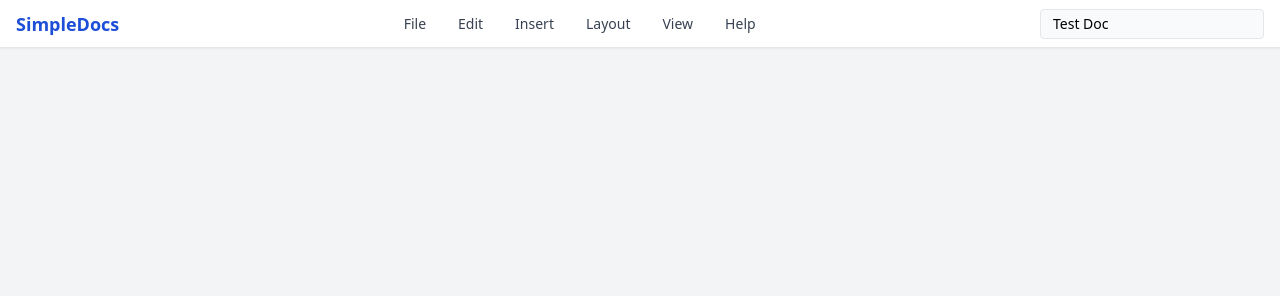
Test case: Navbar — menu close behavior › Layout menu › closes after clicking an alignment button
The width and height of the screenshot is (1280, 296).
Click the button "Layout" at x=608, y=24, box [578,10,638,38]
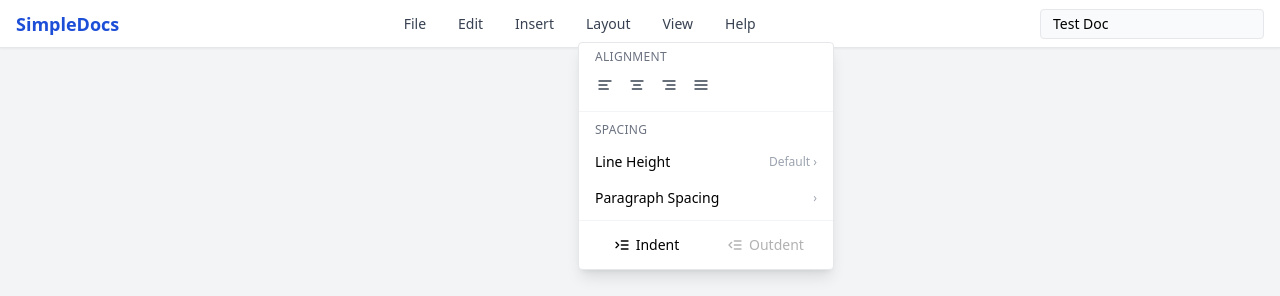
Click the button titled "Align Left" at x=605, y=84, box [591,70,619,98]
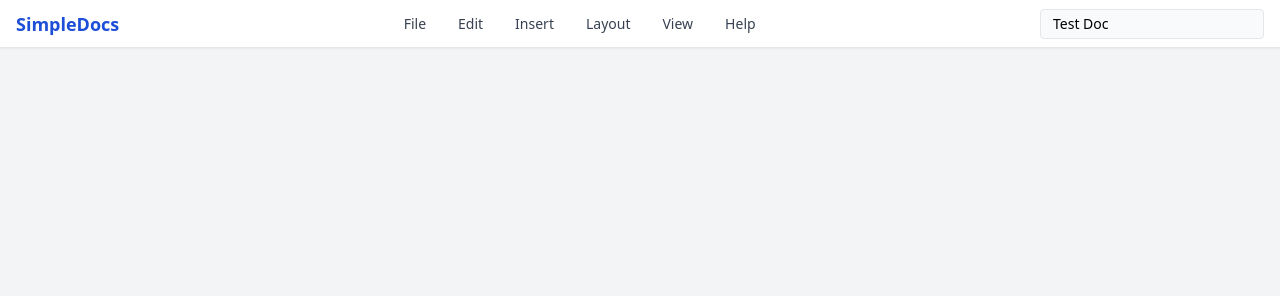
Expected: the text "Alignment" is gone
